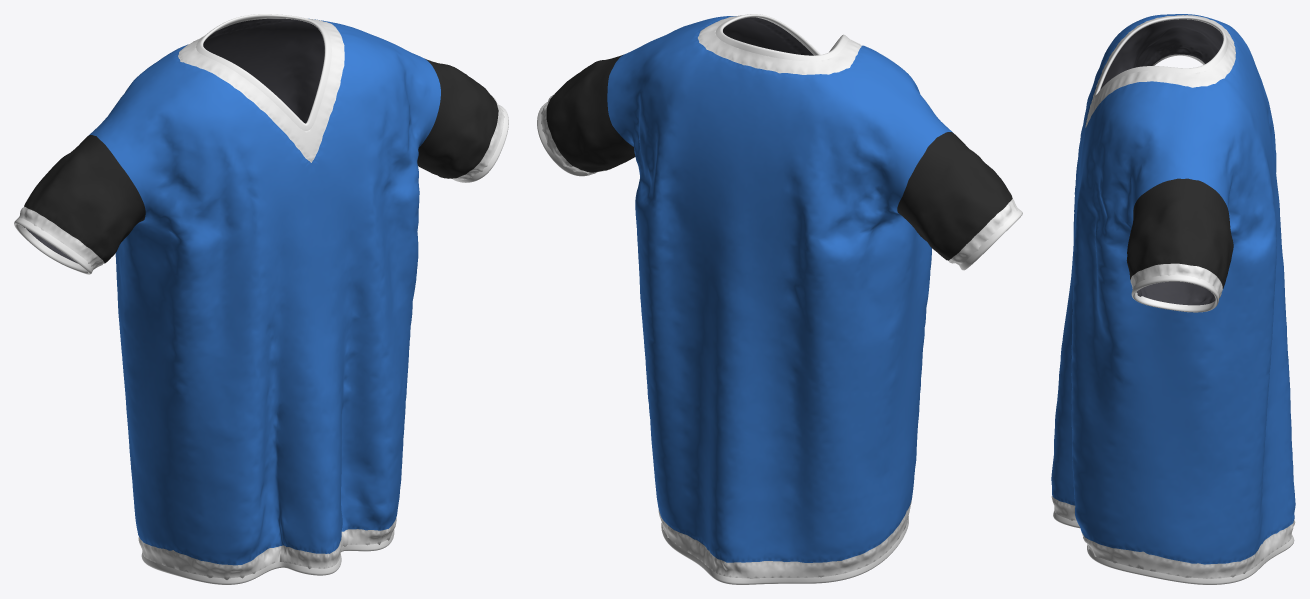
Rendered from striker.glb.
3 renders of one model, left to right at view 1: azimuth 30°, elevation 25°; view 2: azimuth 150°, elevation 25°; view 3: azimuth 270°, elevation 25°, orthographic. The views are drawn at different scales.
Visible parts, largest first — view 1: Jersey; view 2: Jersey; view 3: Jersey.
Part boxes in pixels (x1,y1,x2,y2): Jersey: (14,14,508,584); Jersey: (537,14,1022,584); Jersey: (1051,14,1295,584).
Bounding box in the file's own units: 2.64 × 2.73 × 1.2.
